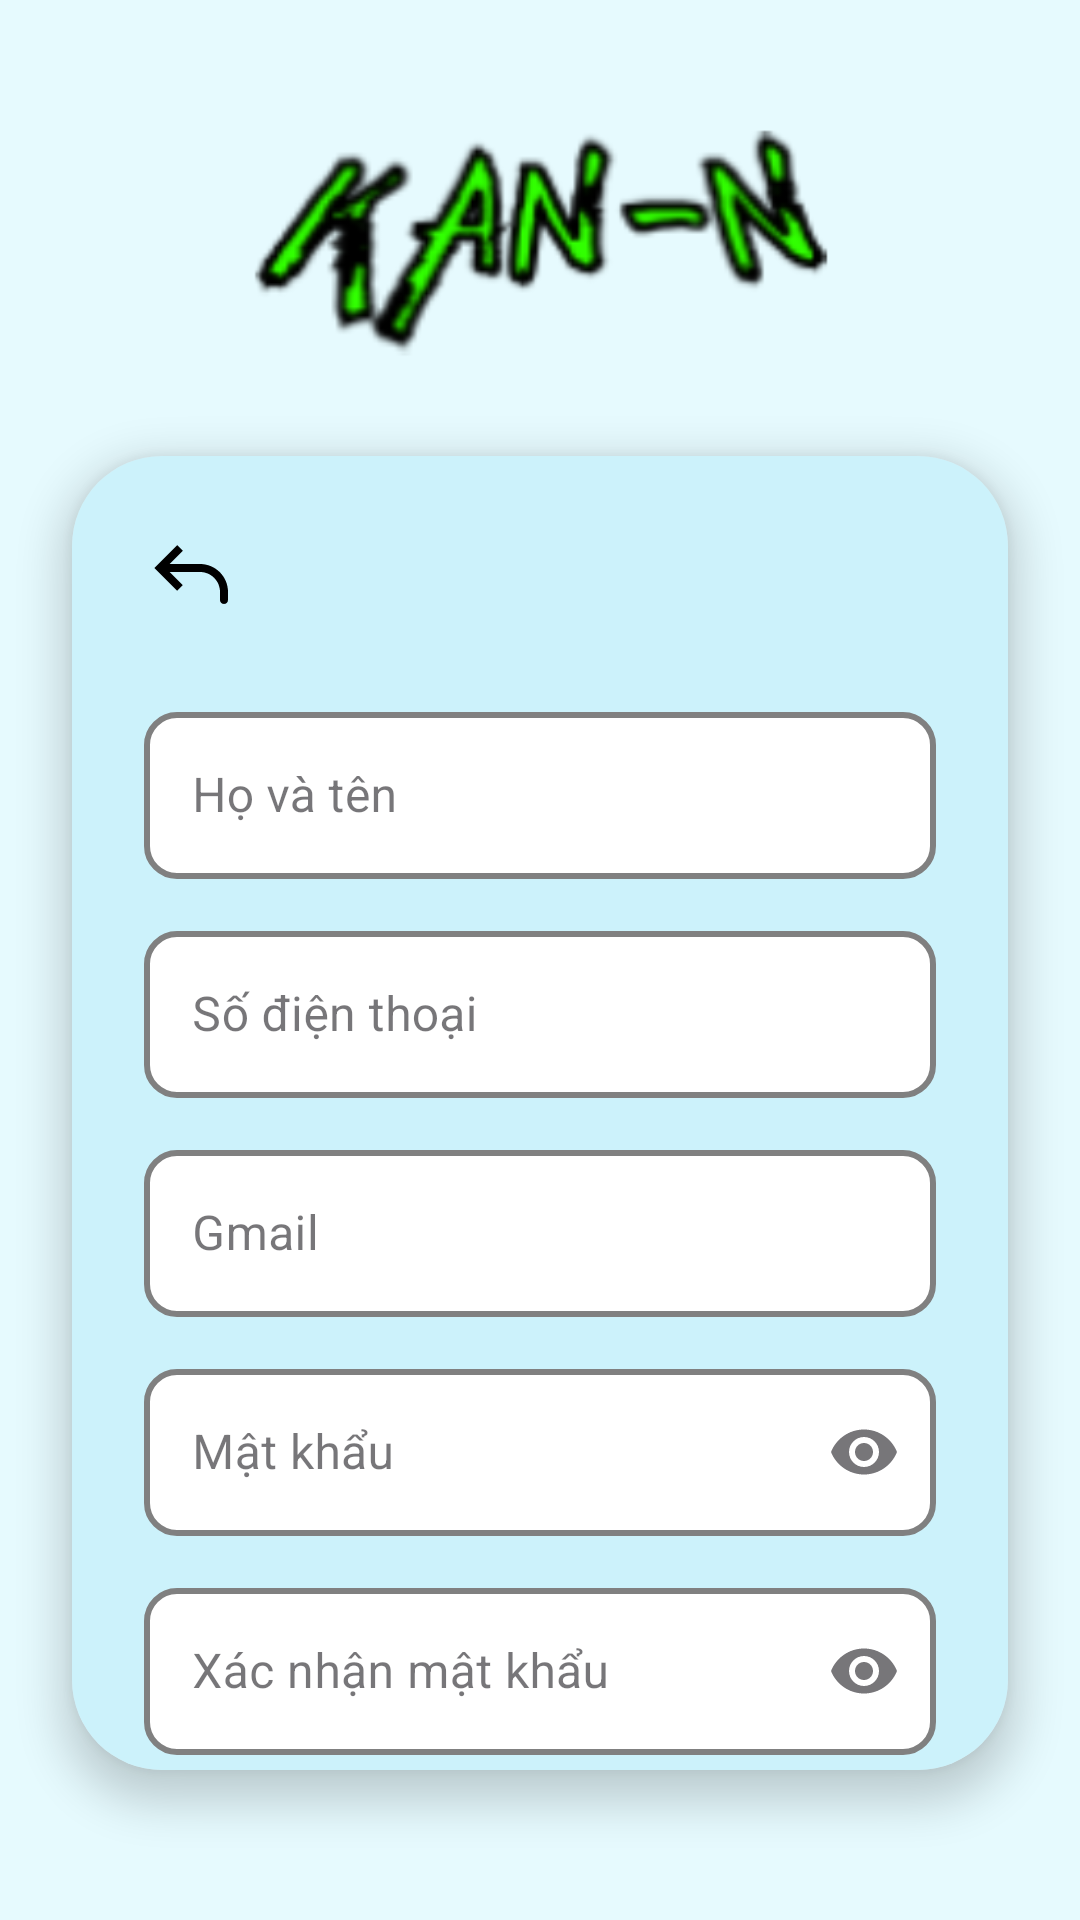

Screen size 1080px x 1920px. Icon name, then its center in pixels as [x,y]:
Quay lại: [191,574]
